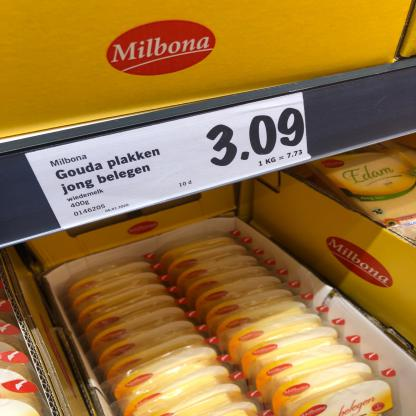prtg: (24, 94, 309, 231)
